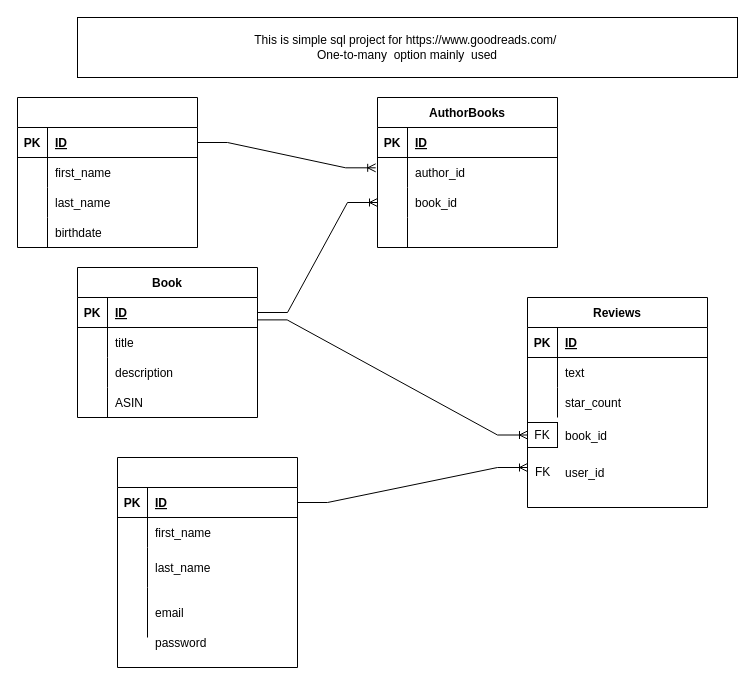
Image size: 755x685. Some labels were removed from this diagram. Here are the shapes that lost their labels. From the top down, the box of each, then its label:
(16, 96, 198, 248): Author
(116, 456, 298, 668): User
